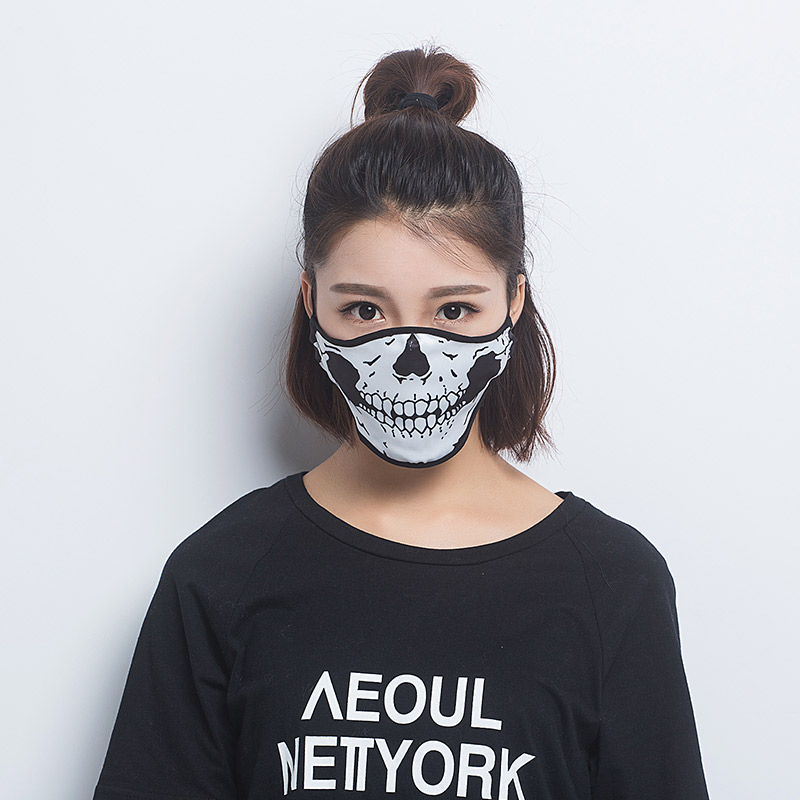face_mask: (314, 202, 505, 457)
